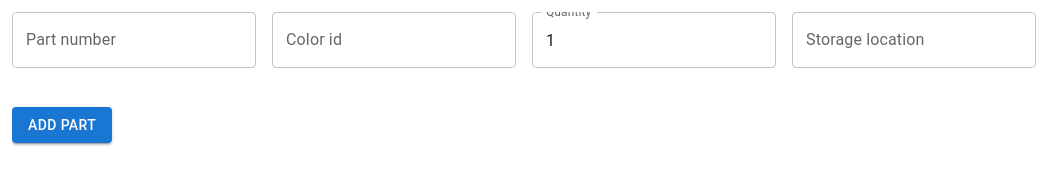
AddPartToCollectionForm › requires a part number
The image size is (1048, 172).
In the number field labelled "Color id": (394, 40) [272,12,516,68], type "4"
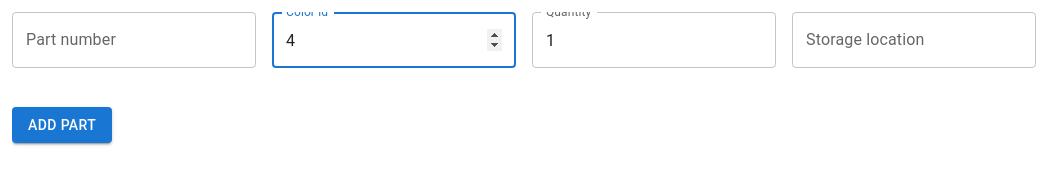
Click the button "Add part": (62, 125) [12,107,112,143]
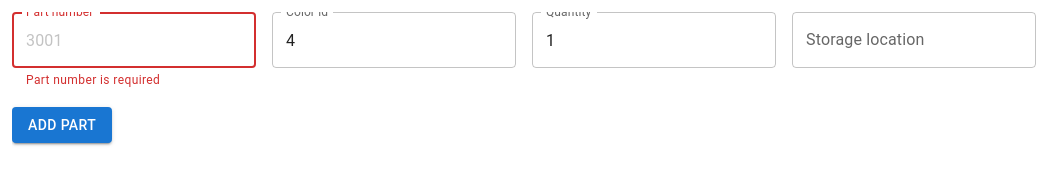
Expected: the text "Part number is required" is shown, [26,73,160,87]
